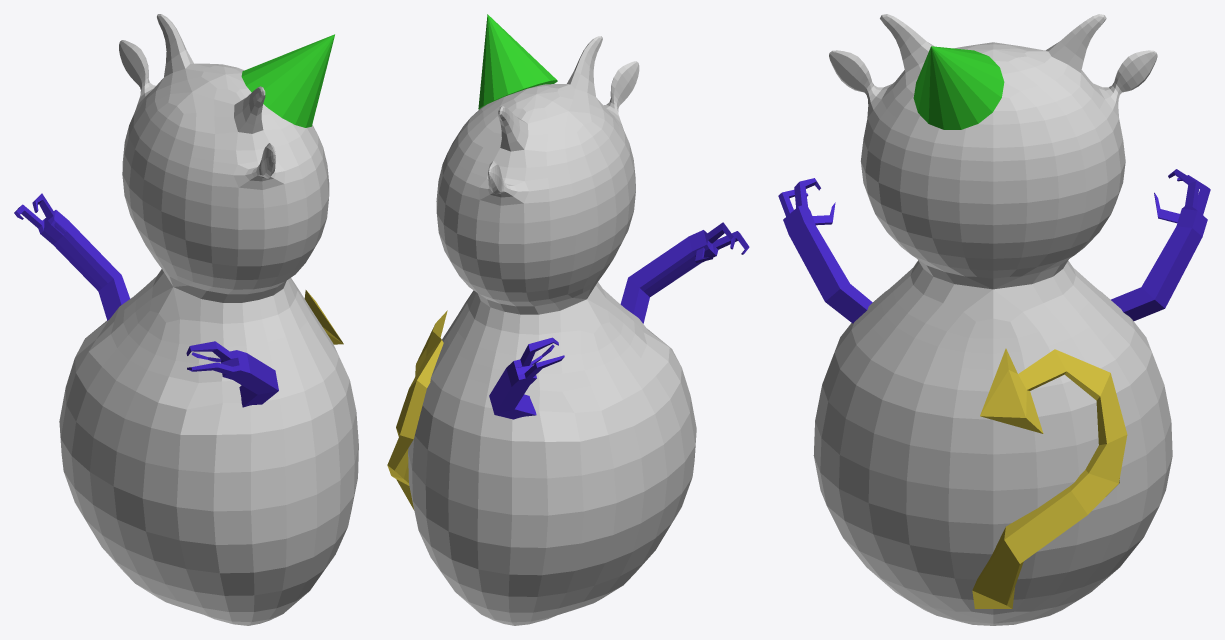
File: player.fbx
3 renders of one model, left to right at view 1: azimuth 30°, elevation 25°; view 2: azimuth 150°, elevation 25°; view 3: azimuth 270°, elevation 25°, orthographic. The views are drawn at different scales.
Visible parts, largest first — view 1: Sphere, Cone, Cube, Cube.001, Cube.002; view 2: Sphere, Cube.001, Cone, Cube.002, Cube; view 3: Sphere, Cube.002, Cone, Cube, Cube.001.
Boxes of the visible parts, left/top/right/bottom form: Sphere: left=59, top=14, right=358, bottom=625; Cone: left=241, top=34, right=334, bottom=127; Cube: left=14, top=193, right=130, bottom=320; Cube.001: left=186, top=341, right=278, bottom=407; Cube.002: left=304, top=290, right=343, bottom=344; Sphere: left=408, top=36, right=696, bottom=625; Cube.001: left=620, top=222, right=749, bottom=323; Cone: left=478, top=14, right=557, bottom=109; Cube.002: left=387, top=310, right=447, bottom=510; Cube: left=489, top=337, right=564, bottom=419; Sphere: left=813, top=14, right=1172, bottom=625; Cube.002: left=972, top=348, right=1127, bottom=608; Cone: left=913, top=46, right=1004, bottom=129; Cube: left=1111, top=169, right=1210, bottom=320; Cube.001: left=778, top=178, right=872, bottom=323.
Bounding box in the file's own units: 1.32 × 2.73 × 1.74.
